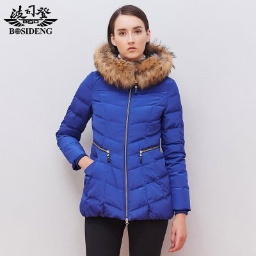face: (105, 3, 153, 62)
